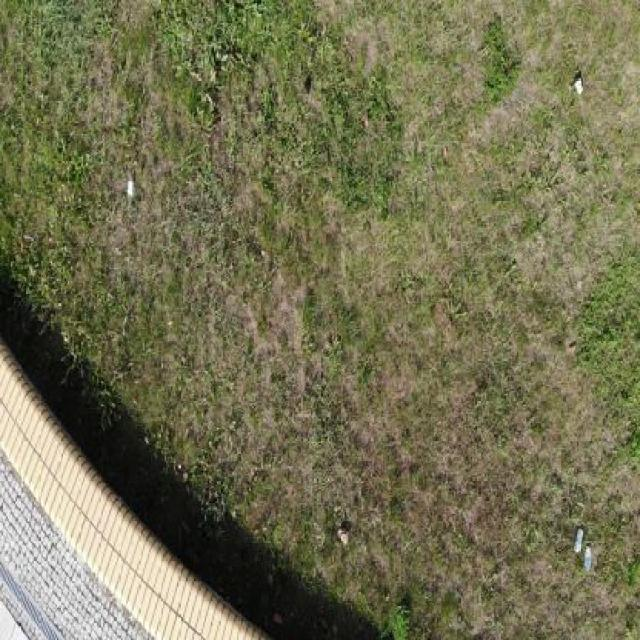Garbage: (573, 528, 583, 552), (573, 74, 584, 94), (127, 179, 134, 209), (337, 528, 349, 545), (584, 546, 591, 569)
